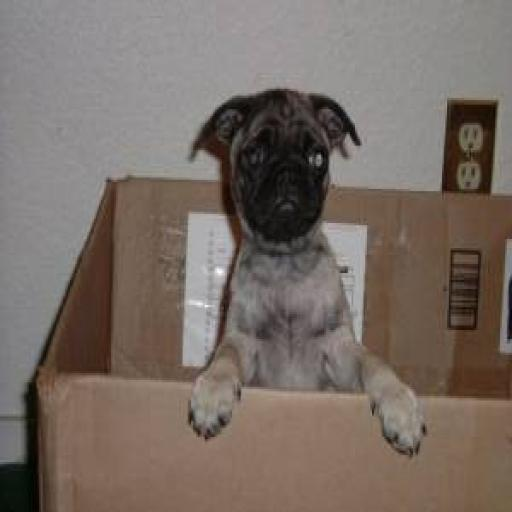dog_face: (191, 87, 365, 248)
